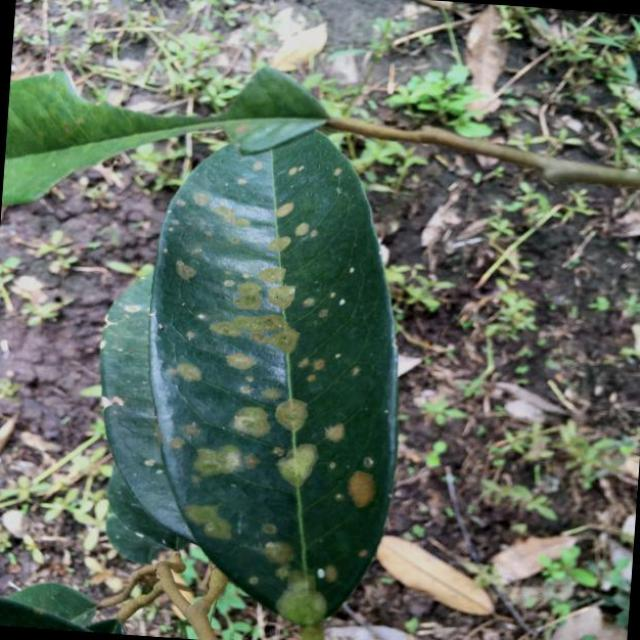Algal Leaf Spot: (123, 100, 434, 640)
